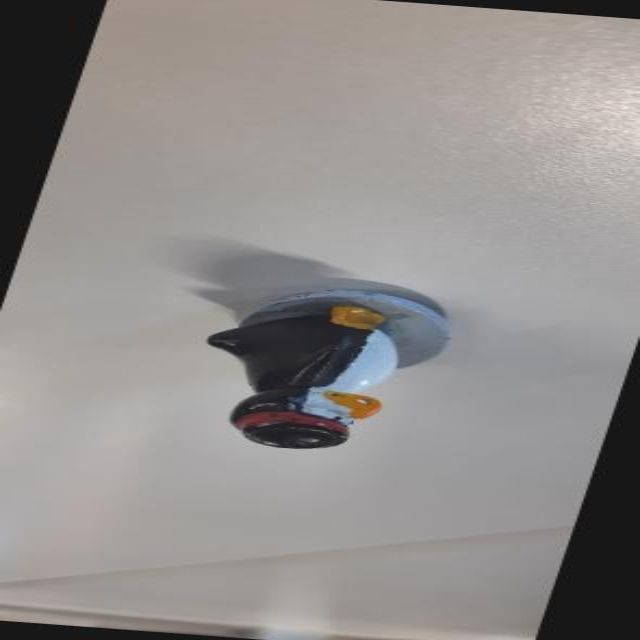Penguin: (143, 265, 488, 484)
